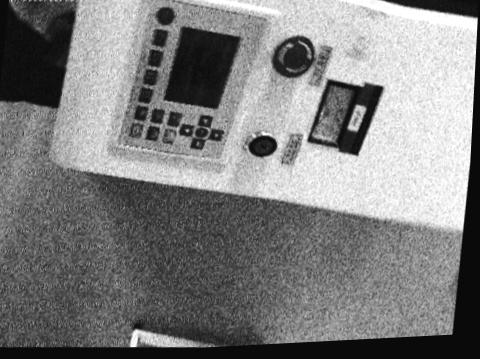Amp_Meter: (310, 81, 356, 145)
Display: (164, 25, 240, 107)
Down_button: (179, 123, 194, 135)
Emergency_Stop: (273, 34, 316, 76)
Enter_button: (163, 128, 176, 143)
Esc_button: (168, 110, 182, 125)
File_button: (135, 104, 148, 119)
Frame_button: (146, 125, 160, 140)
Left_button: (198, 114, 214, 125)
Max-Power_button: (139, 86, 153, 102)
Min-Power_button: (144, 68, 158, 84)
Origin_button: (151, 107, 165, 123)
Power_switch: (248, 130, 277, 155)
Pulse_button: (153, 27, 167, 45)
Reset_button: (158, 5, 174, 23)
Right_button: (190, 137, 206, 148)
Speed_button: (149, 48, 163, 65)
Start-Pause_button: (130, 122, 143, 136)
Up_button: (209, 128, 224, 140)
Z_U_button: (195, 126, 208, 136)
